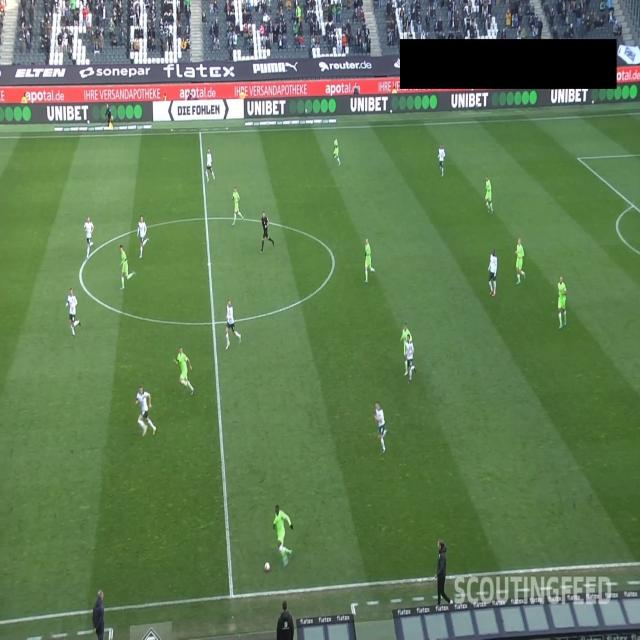ball: (264, 561, 270, 573)
